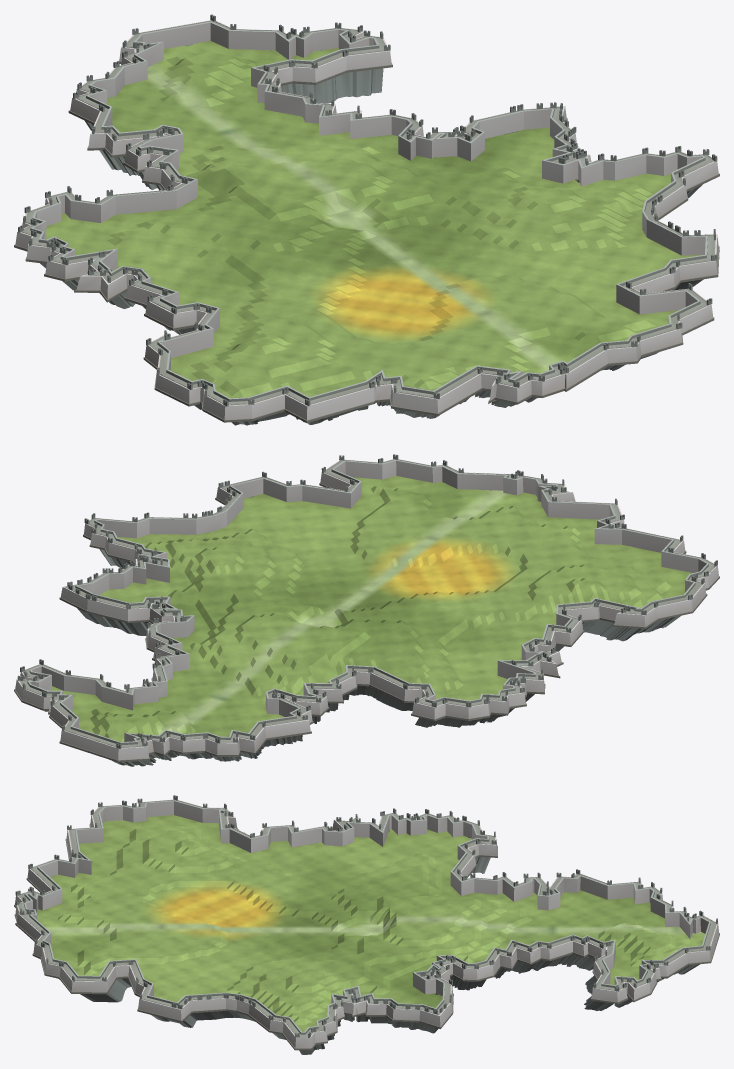
3 renders of one model, top to bottom at view 1: azimuth 30°, elevation 25°; view 2: azimuth 150°, elevation 25°; view 3: azimuth 270°, elevation 25°, orthographic. The views are drawn at different scales.
Parts seen in each view (by area): view 1: ground_4d227097; view 2: ground_4d227097; view 3: ground_4d227097.
Part boxes in pixels (x1,y1,x2,y2): ground_4d227097: (14, 14, 719, 425); ground_4d227097: (14, 454, 719, 766); ground_4d227097: (14, 795, 719, 1054).
Size of the model in its own units: 131 by 7.61 by 163.
3 materials, 1 textured.
